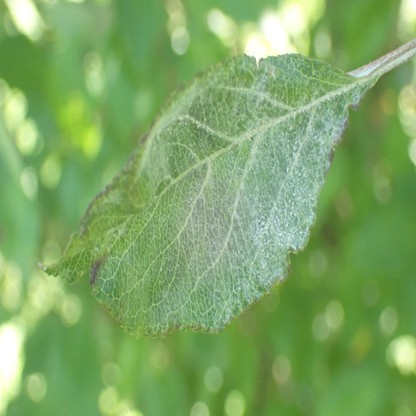powdery_mildew: (39, 54, 378, 336)
